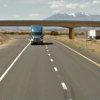Bridge: (1, 11, 97, 28)
